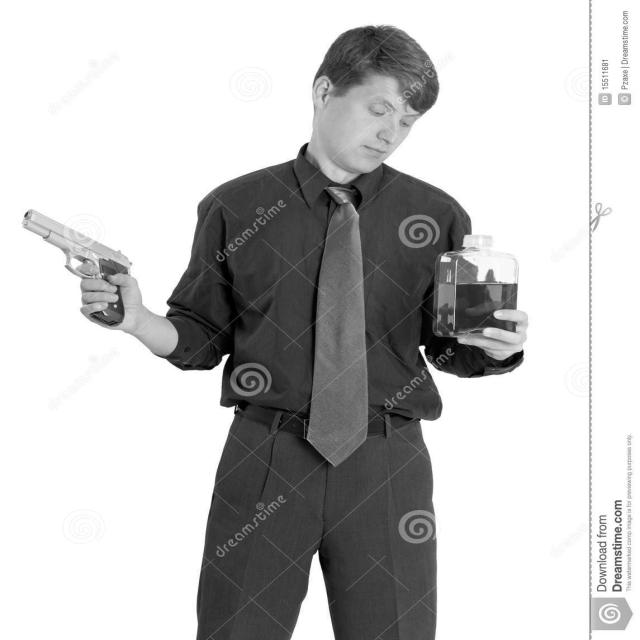gun: (18, 207, 132, 328)
